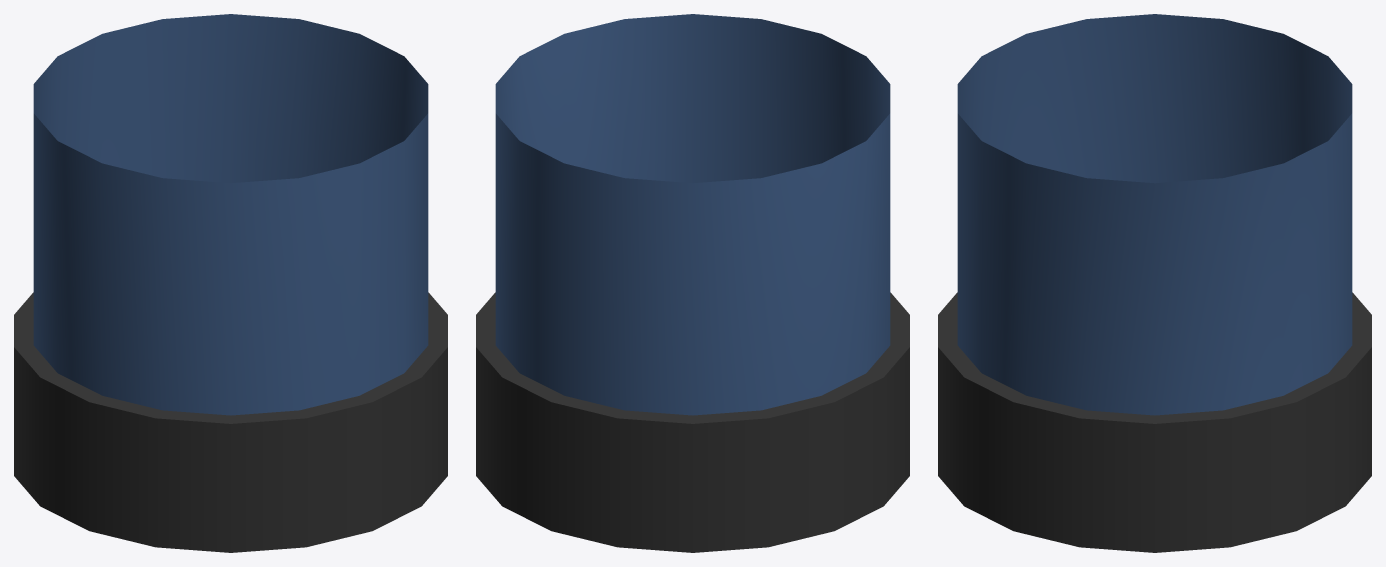
File: BlueMetalDecorationLargePipeConnector1.fbx
3 renders of one model, left to right at view 1: azimuth 30°, elevation 25°; view 2: azimuth 150°, elevation 25°; view 3: azimuth 270°, elevation 25°, orthographic.
Visible parts, largest first — view 1: BlueMetalDecorationLargePipeConnector1; view 2: BlueMetalDecorationLargePipeConnector1; view 3: BlueMetalDecorationLargePipeConnector1.
Part boxes in pixels (bbox=[...]): BlueMetalDecorationLargePipeConnector1: bbox=[14, 14, 447, 552]; BlueMetalDecorationLargePipeConnector1: bbox=[476, 14, 909, 552]; BlueMetalDecorationLargePipeConnector1: bbox=[938, 14, 1371, 552].
Bounding box in the file's own units: 165 × 149 × 162.
